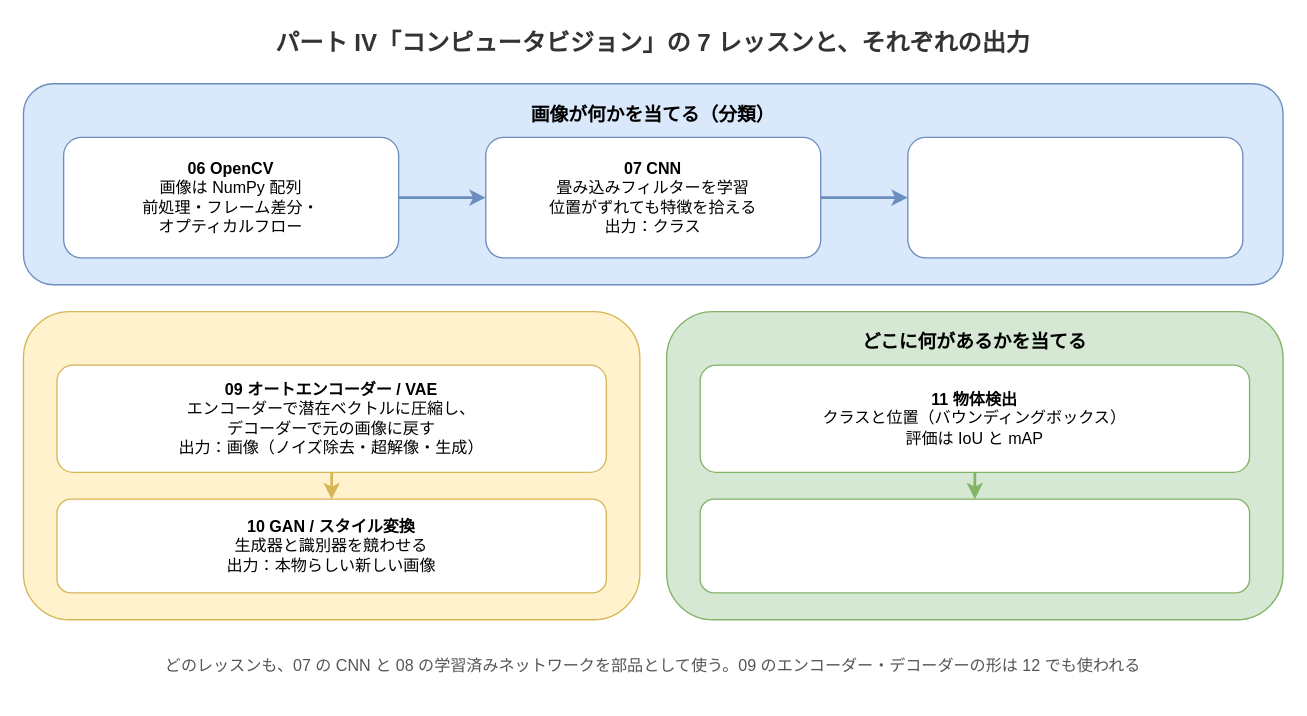
This 1307x716 diagram has some shape labels left out. The box of each missing label's shape, as (x1, y1, x2, y2) in pixels:
08 転移学習 ImageNet で学習済みの CNN を 特徴抽出器として使い回す 出力：クラス: (907, 136, 1243, 258)
12 セマンティックセグメンテーション 画素ごとのクラス（マスク） エンコーダー・デコーダー型（SegNet / U-Net）: (699, 498, 1250, 593)
画像を作る（生成）: (22, 310, 640, 620)
